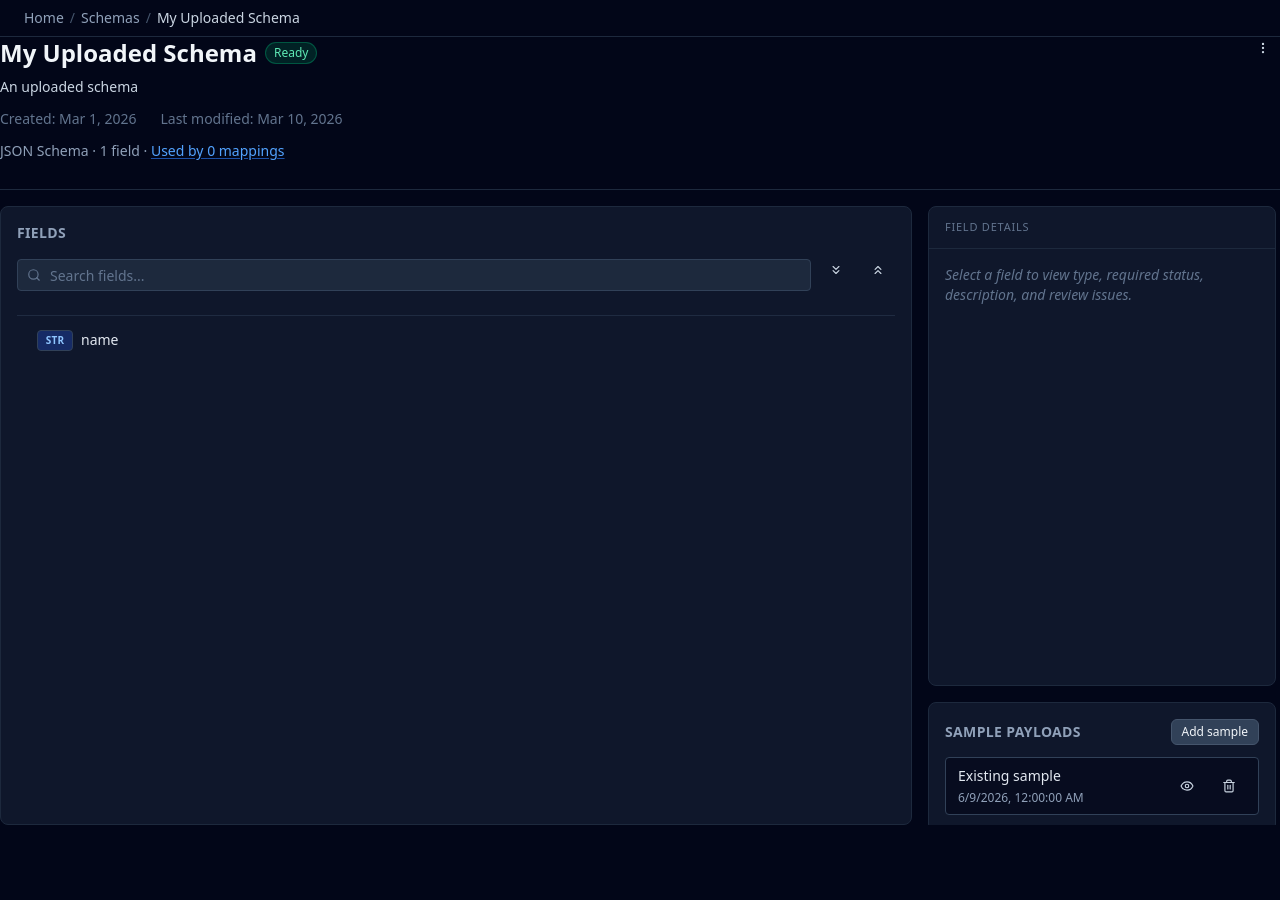
Test case: SchemaDetailPage › loads raw payload via API when viewing persisted sample without local cache
Expected: the button with test id "sample-row-sample-existing" is shown, [958,766,1162,806]
Click the button with test id "sample-view-sample-existing". click: (1187, 786)
box: [1170,775,1204,797]
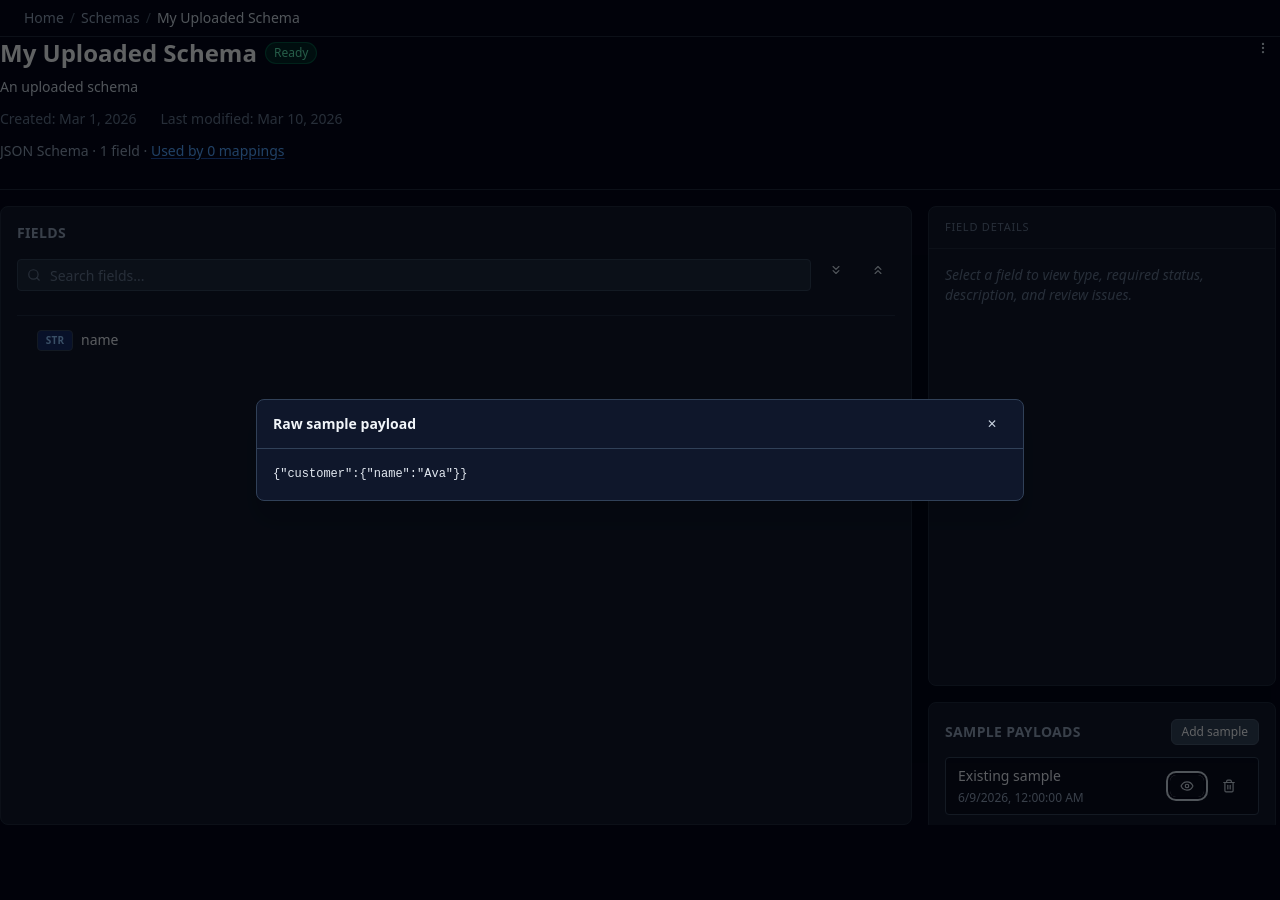
Expected: the text with test id "view-sample-content" shows "\"Ava\"", [273,467,467,481]
